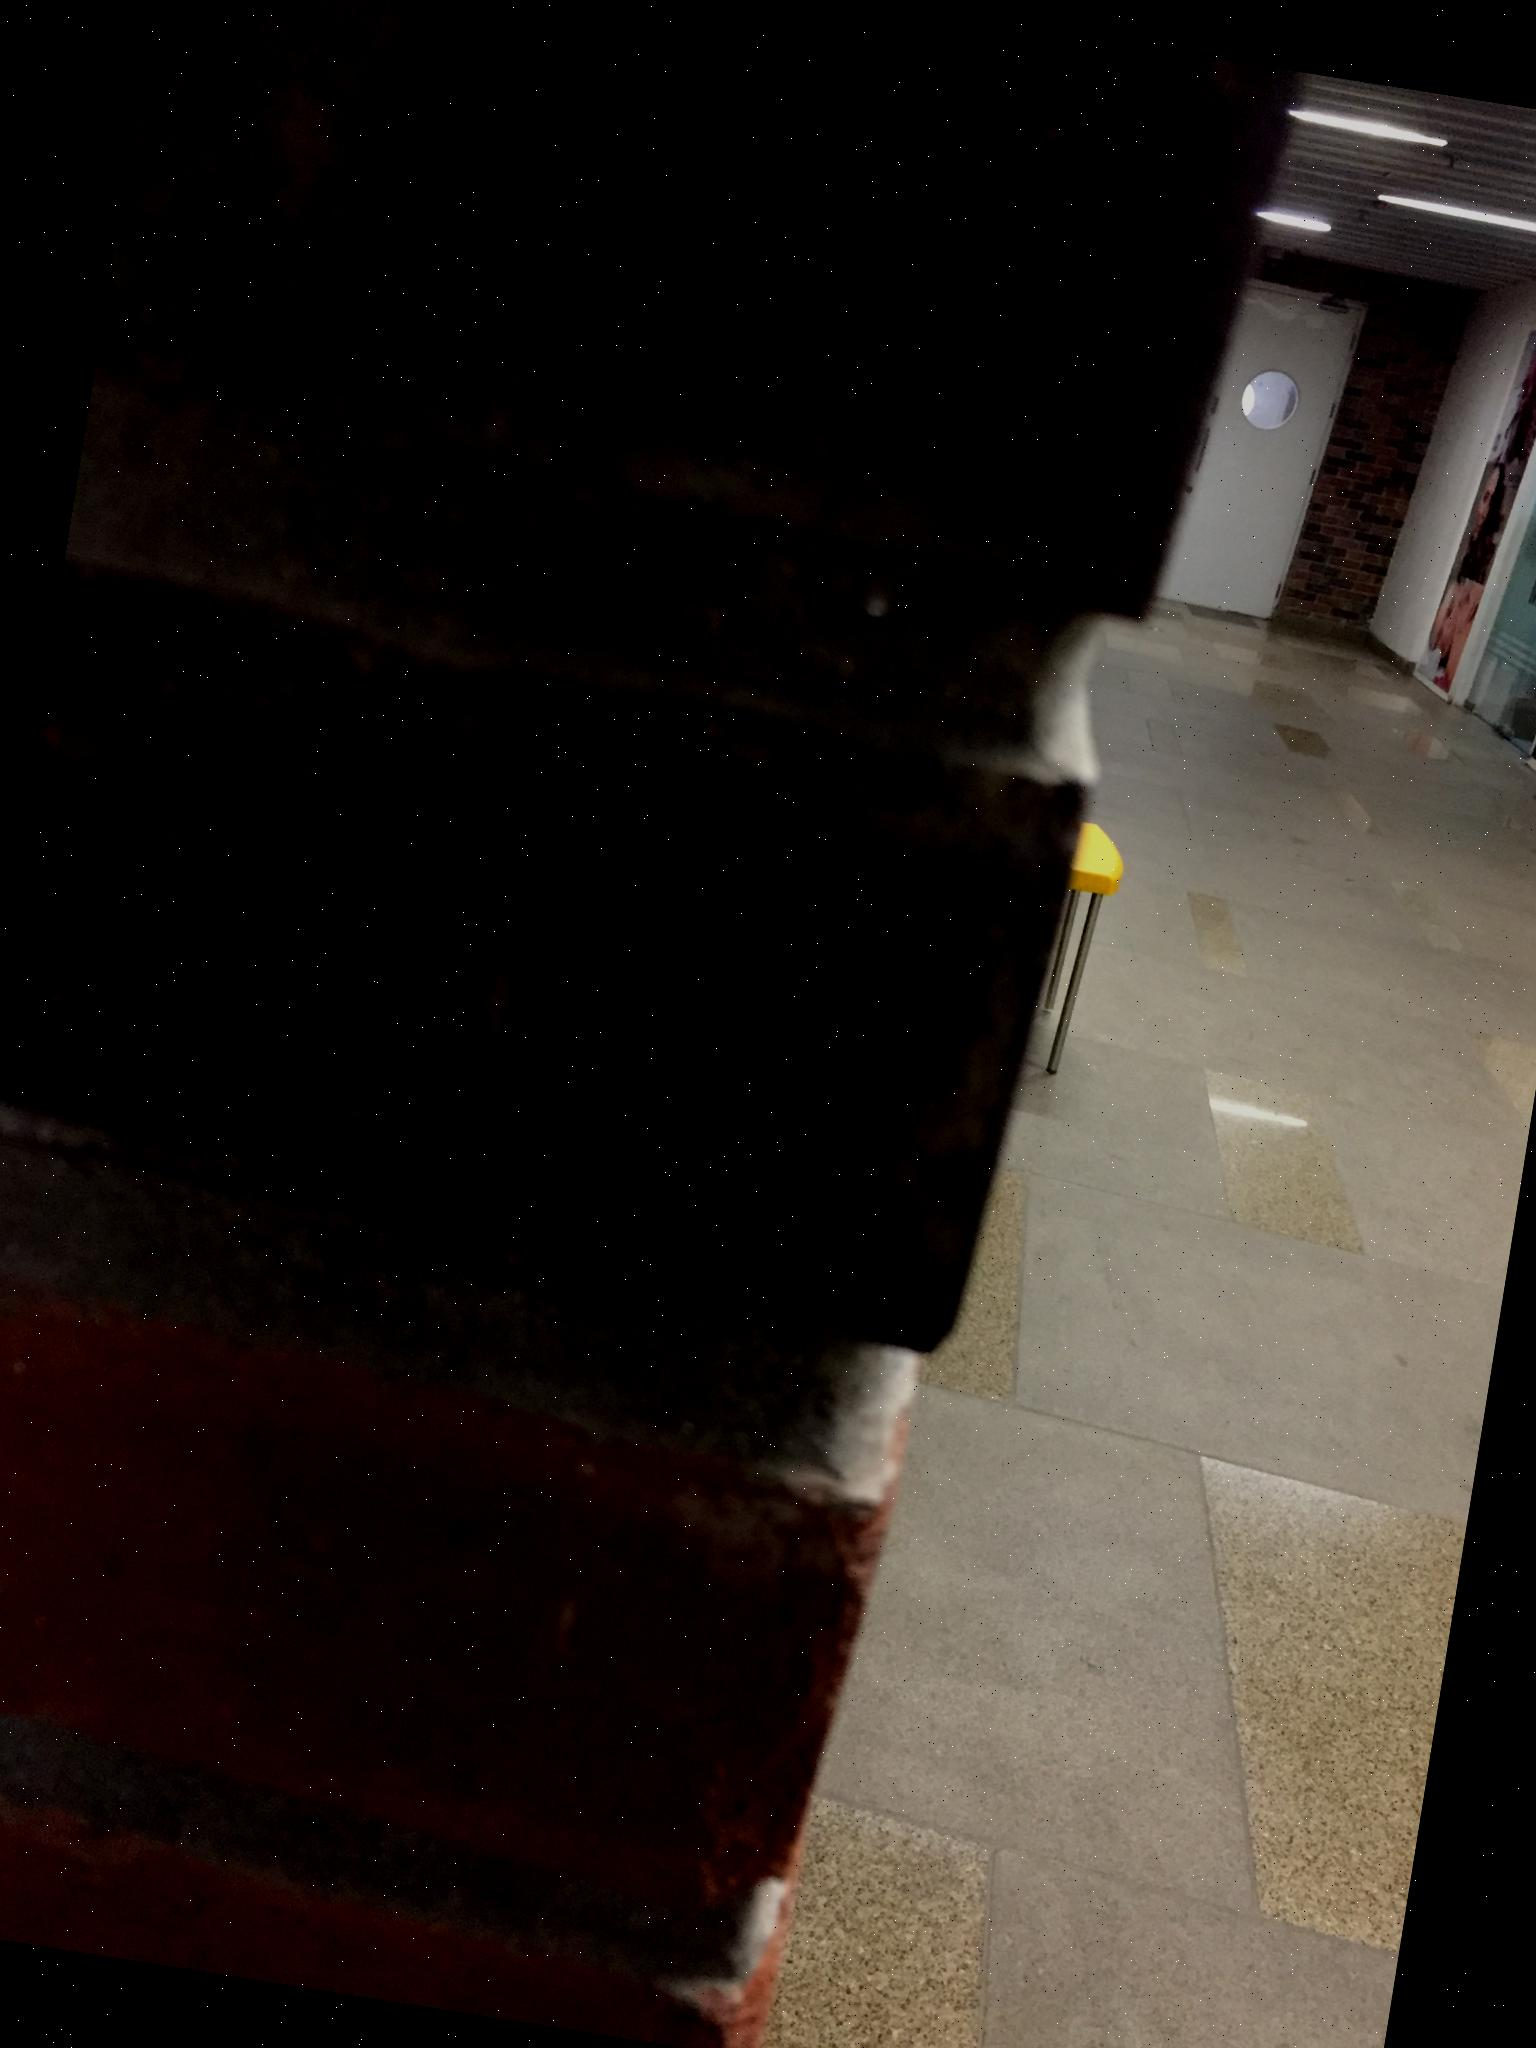chair: (912, 657, 1148, 1097)
